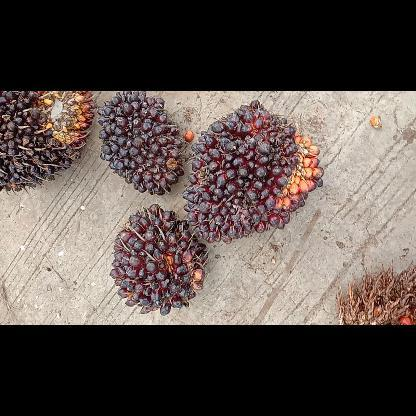TBS mentah: (182, 98, 326, 244), (107, 201, 211, 317), (94, 92, 188, 196)
